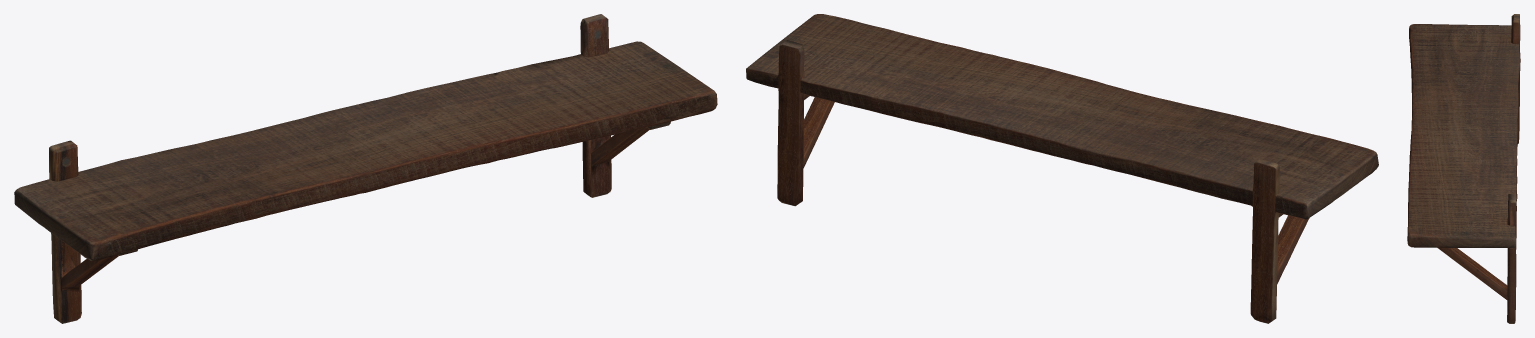
The picture shows the model from 3 angles, left to right: view 1: azimuth 30°, elevation 25°; view 2: azimuth 150°, elevation 25°; view 3: azimuth 270°, elevation 25°; orthographic projection. The views are drawn at different scales.
Parts seen in each view (by area): view 1: vlwmahl_LOD0_TIER2_000; view 2: vlwmahl_LOD0_TIER2_000; view 3: vlwmahl_LOD0_TIER2_000.
Boxes of the visible parts, <box> form: vlwmahl_LOD0_TIER2_000: <box>14,14,717,323</box>; vlwmahl_LOD0_TIER2_000: <box>746,14,1378,323</box>; vlwmahl_LOD0_TIER2_000: <box>1407,14,1520,323</box>.
Bounding box in the file's own units: 0.8519 × 0.2306 × 0.191.
1 material, 1 textured.
